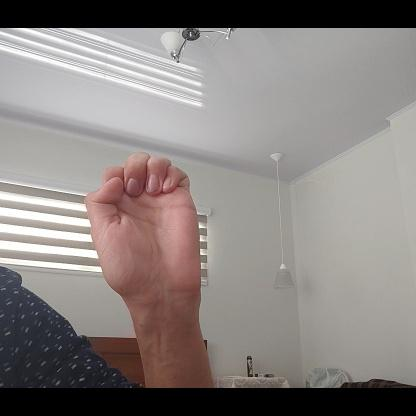E: (84, 151, 205, 297)
